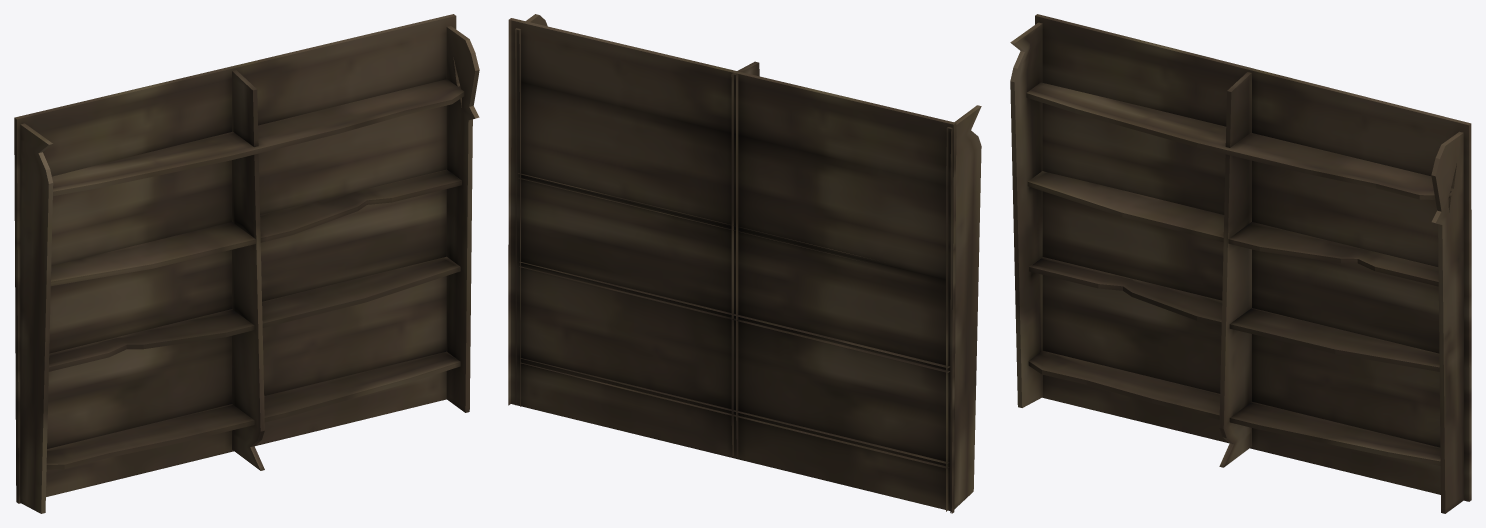
The model's file is Wardrobe.fbx.
3 views of the same model, side by side, from view 1: azimuth 30°, elevation 25°; view 2: azimuth 150°, elevation 25°; view 3: azimuth 330°, elevation 25° (orthographic). The views are drawn at different scales.
Visible parts, largest first — view 1: Wardrobe1.001; view 2: Wardrobe1.001; view 3: Wardrobe1.001.
Boxes of the visible parts, x1,y1,x2,y2 form: Wardrobe1.001: [14, 14, 479, 513]; Wardrobe1.001: [508, 14, 981, 513]; Wardrobe1.001: [1010, 14, 1471, 513].
Bounding box in the file's own units: 455 × 380 × 55.69.
1 material, 1 textured.
